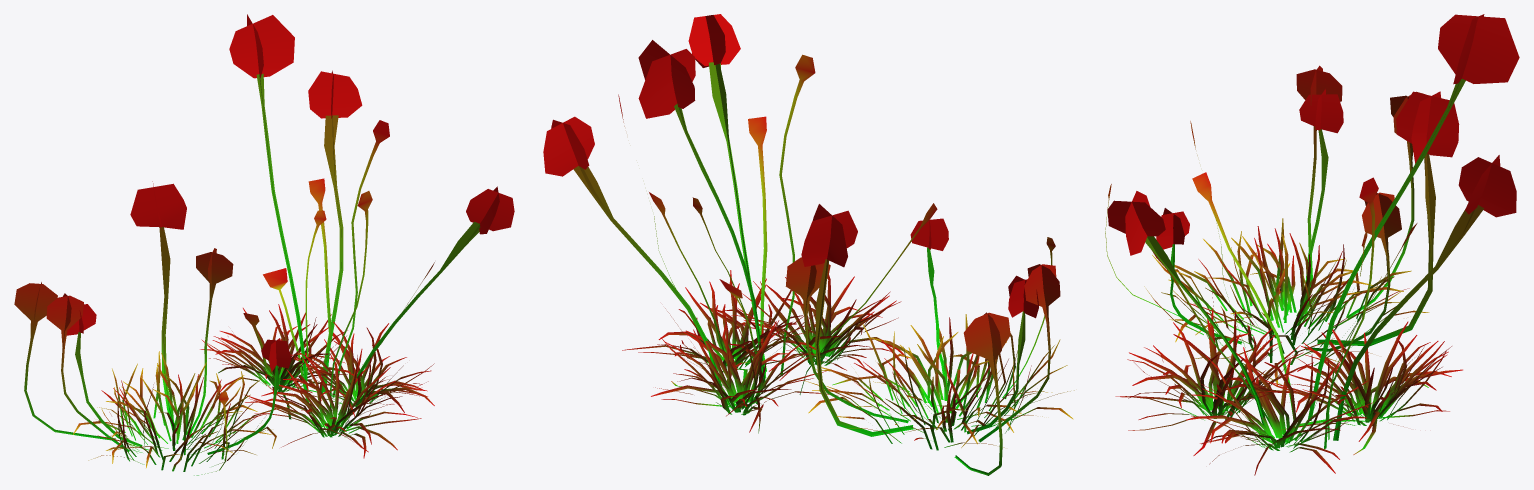
File: Var6_LOD2.fbx
3 renders of one model, left to right at view 1: azimuth 30°, elevation 25°; view 2: azimuth 150°, elevation 25°; view 3: azimuth 270°, elevation 25°, orthographic. The views are drawn at different scales.
Visible parts, largest first — view 1: _wkux_Var6_LOD2; view 2: _wkux_Var6_LOD2; view 3: _wkux_Var6_LOD2.
Part boxes in pixels (x1,y1,x2,y2): _wkux_Var6_LOD2: [14, 14, 514, 475]; _wkux_Var6_LOD2: [543, 14, 1074, 475]; _wkux_Var6_LOD2: [1105, 14, 1519, 475].
Size of the model in its own units: 24.61 by 20.55 by 17.99.
